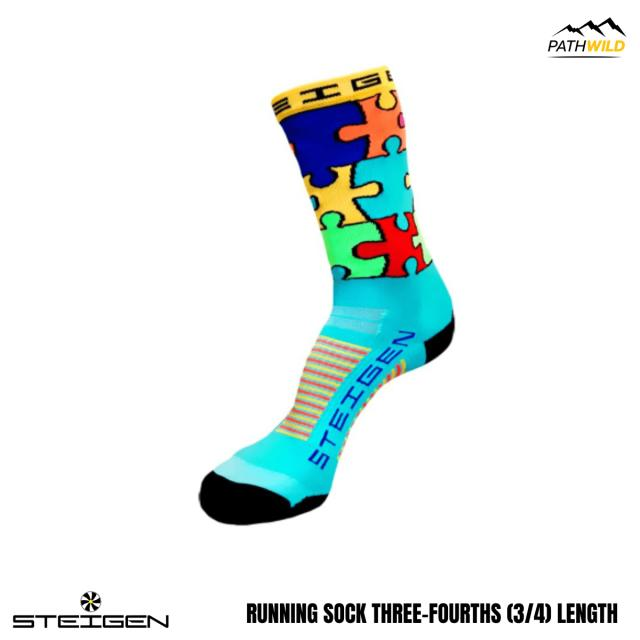sock: (198, 65, 455, 525)
